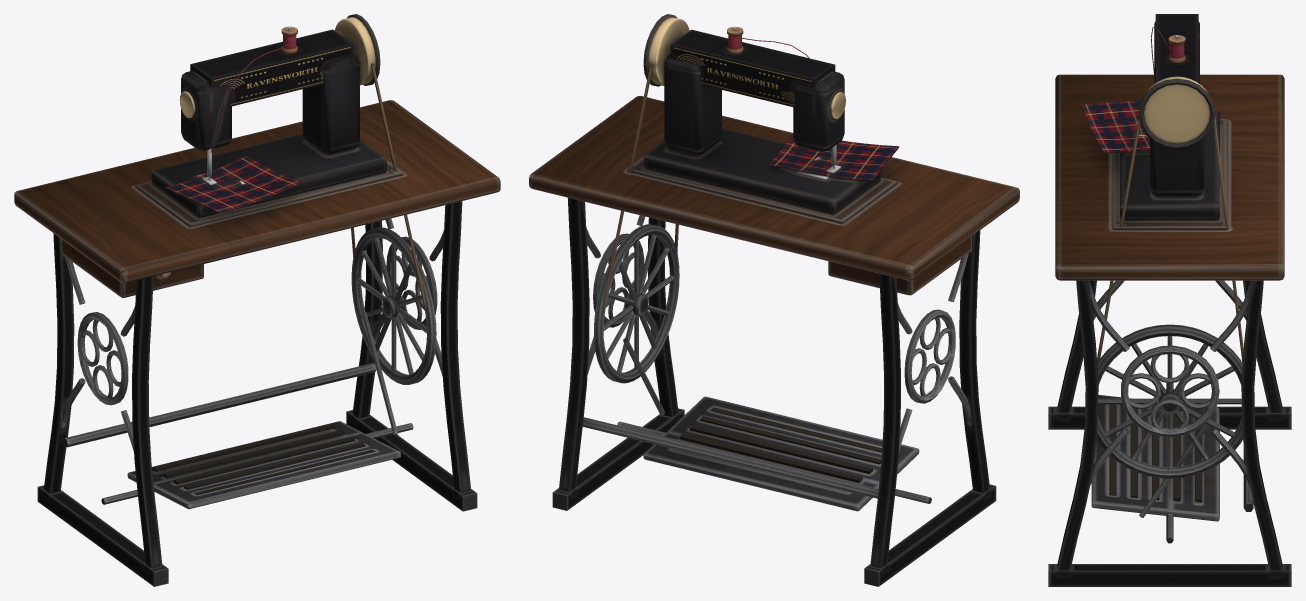
File: TreadleSewingMachine.fbx
The picture shows the model from 3 angles, left to right: view 1: azimuth 30°, elevation 25°; view 2: azimuth 150°, elevation 25°; view 3: azimuth 270°, elevation 25°; orthographic projection. The views are drawn at different scales.
Parts seen in each view (by area): view 1: TreadleSewingMachine; view 2: TreadleSewingMachine; view 3: TreadleSewingMachine.
Part boxes in pixels (left/top/right/bottom): TreadleSewingMachine: left=14, top=14, right=500, bottom=586; TreadleSewingMachine: left=529, top=14, right=1019, bottom=586; TreadleSewingMachine: left=1048, top=14, right=1291, bottom=586.
Bounding box in the file's own units: 320 × 375 × 170.
